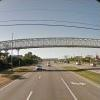Bridge: (2, 33, 99, 59)
